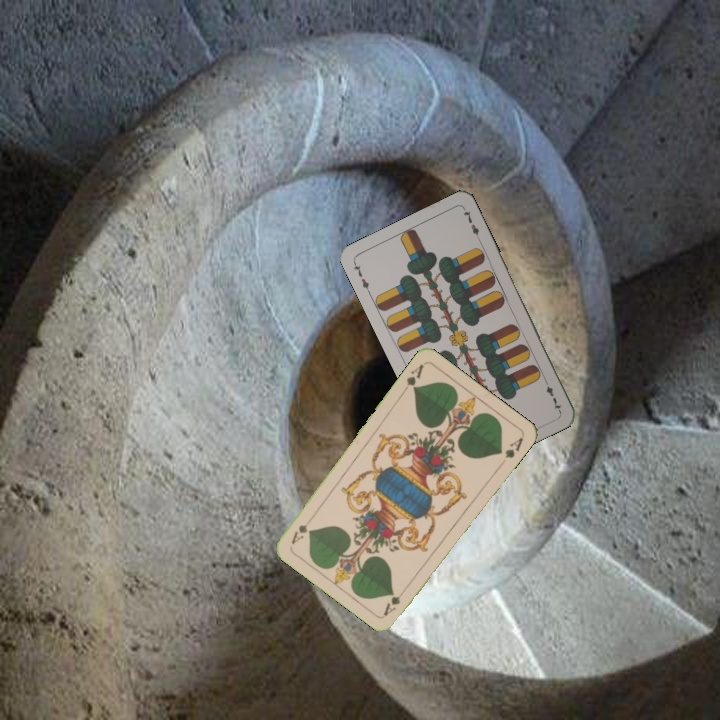E7: (540, 375, 563, 413), (350, 258, 373, 296)
GA: (380, 583, 410, 618), (400, 360, 426, 396)
